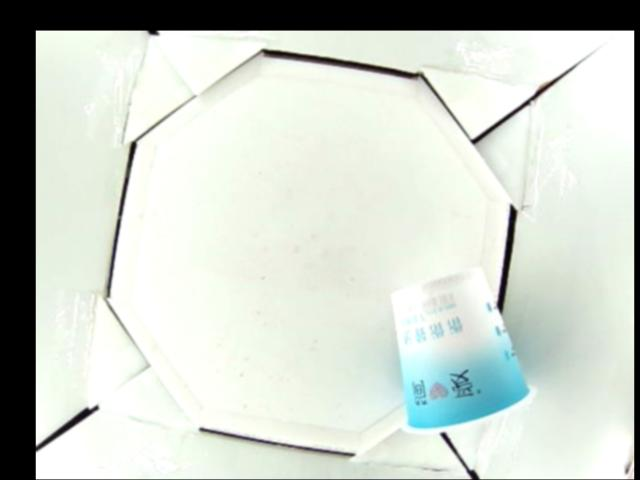Cup: (389, 269, 535, 437)
